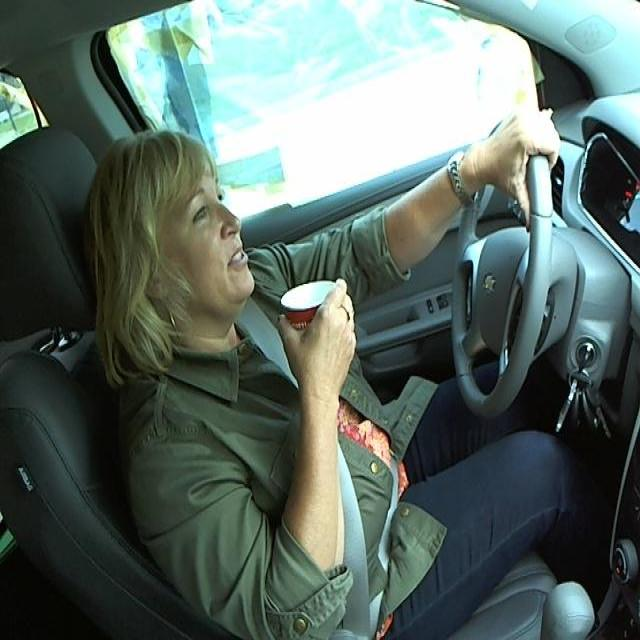Seatbelt: (276, 280, 342, 385)
